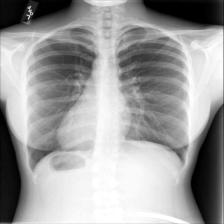normal: (19, 20, 193, 178)
